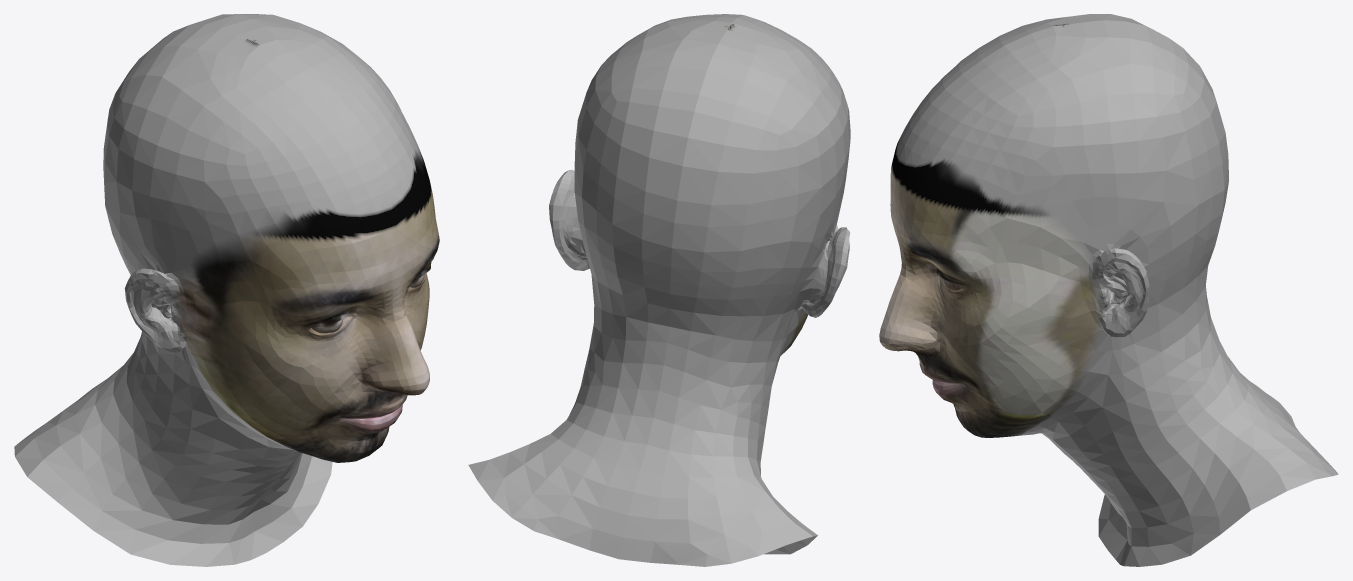
The model's file is ezgif-frame-032.obj.
3 views of the same model, side by side, from view 1: azimuth 30°, elevation 25°; view 2: azimuth 150°, elevation 25°; view 3: azimuth 270°, elevation 25° (orthographic). The views are drawn at different scales.
Size of the model in its own units: 0.2033 by 0.3274 by 0.264.
1 material, 1 textured.
